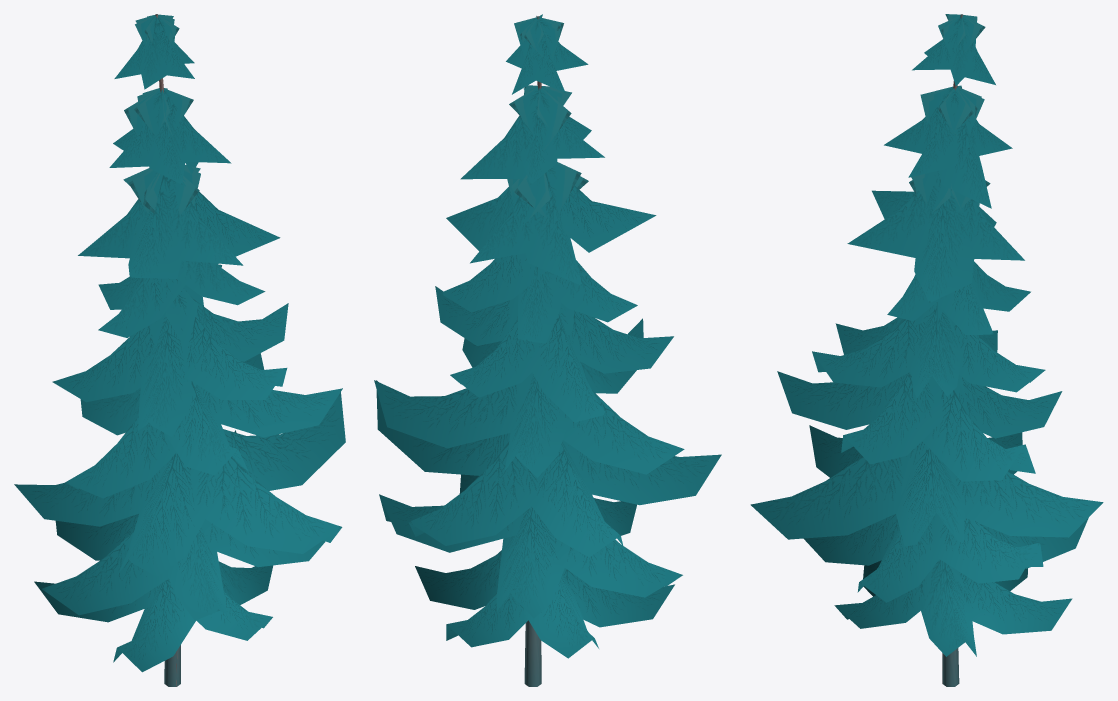
3 renders of one model, left to right at view 1: azimuth 30°, elevation 25°; view 2: azimuth 150°, elevation 25°; view 3: azimuth 270°, elevation 25°, orthographic.
Parts seen in each view (by area): view 1: submesh_1, submesh_0; view 2: submesh_1, submesh_0; view 3: submesh_1, submesh_0.
Boxes of the visible parts, left/top/right/bottom form: submesh_1: left=14, top=14, right=345, bottom=672; submesh_0: left=155, top=14, right=180, bottom=686; submesh_1: left=374, top=14, right=721, bottom=658; submesh_0: left=524, top=16, right=541, bottom=686; submesh_1: left=750, top=14, right=1103, bottom=656; submesh_0: left=942, top=14, right=963, bottom=686.
Size of the model in its own units: 2.18 by 4.62 by 2.23.
Materials: 2 (2 with a texture image).
